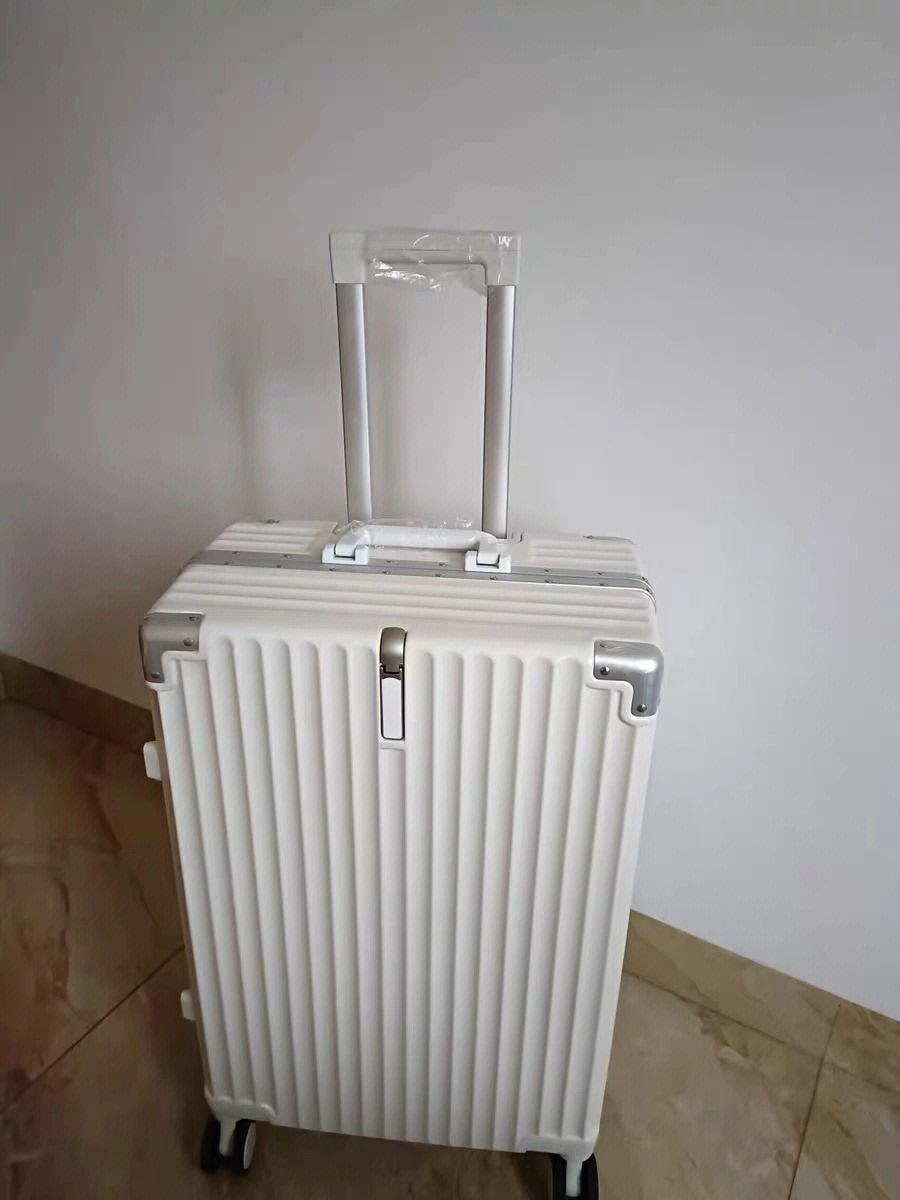box: (137, 523, 664, 1161)
handle: (321, 523, 512, 575)
wheel: (199, 1119, 257, 1174), (548, 1152, 600, 1196)
